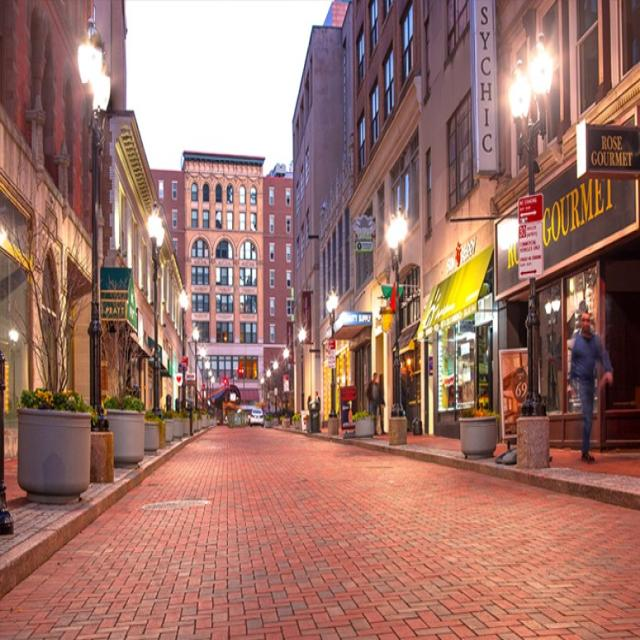Street Light: (507, 51, 553, 469), (78, 26, 114, 484), (147, 207, 168, 449), (387, 217, 407, 445), (326, 295, 340, 432), (178, 292, 189, 434), (191, 328, 200, 429), (298, 328, 307, 428), (282, 347, 291, 427), (199, 347, 206, 427)
